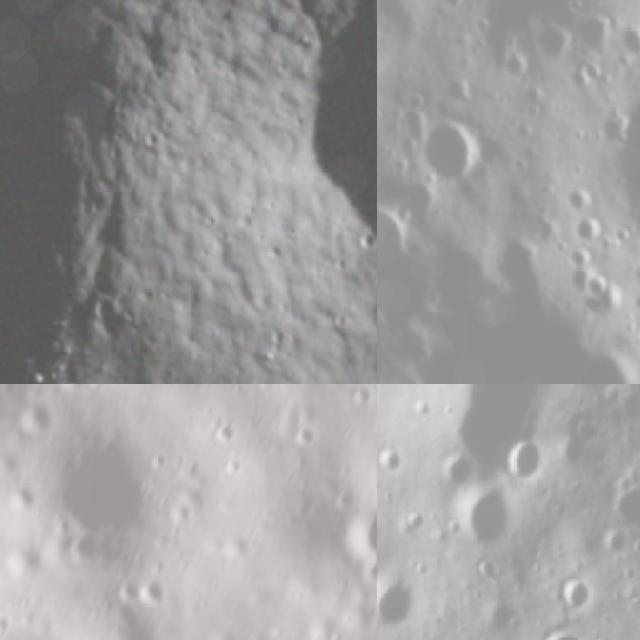crater: (377, 225, 640, 384), (262, 0, 377, 280), (36, 424, 152, 560), (446, 473, 528, 561), (412, 112, 489, 192), (607, 86, 640, 235), (570, 265, 626, 320), (499, 428, 548, 490), (595, 471, 640, 538), (377, 571, 419, 637), (552, 563, 598, 620), (532, 10, 575, 67), (571, 7, 617, 58), (338, 496, 377, 556), (491, 46, 533, 94), (111, 599, 154, 640), (564, 208, 608, 247), (440, 68, 481, 108), (16, 398, 58, 437), (526, 619, 591, 640), (138, 573, 172, 610), (208, 415, 246, 448), (220, 530, 257, 562), (162, 494, 196, 528), (4, 483, 41, 514), (616, 22, 640, 69), (559, 180, 591, 215), (354, 555, 377, 598), (114, 570, 146, 600), (294, 419, 322, 450), (222, 451, 250, 479), (388, 366, 428, 384), (146, 448, 174, 473), (346, 384, 377, 406), (583, 624, 620, 640), (0, 610, 13, 639)
